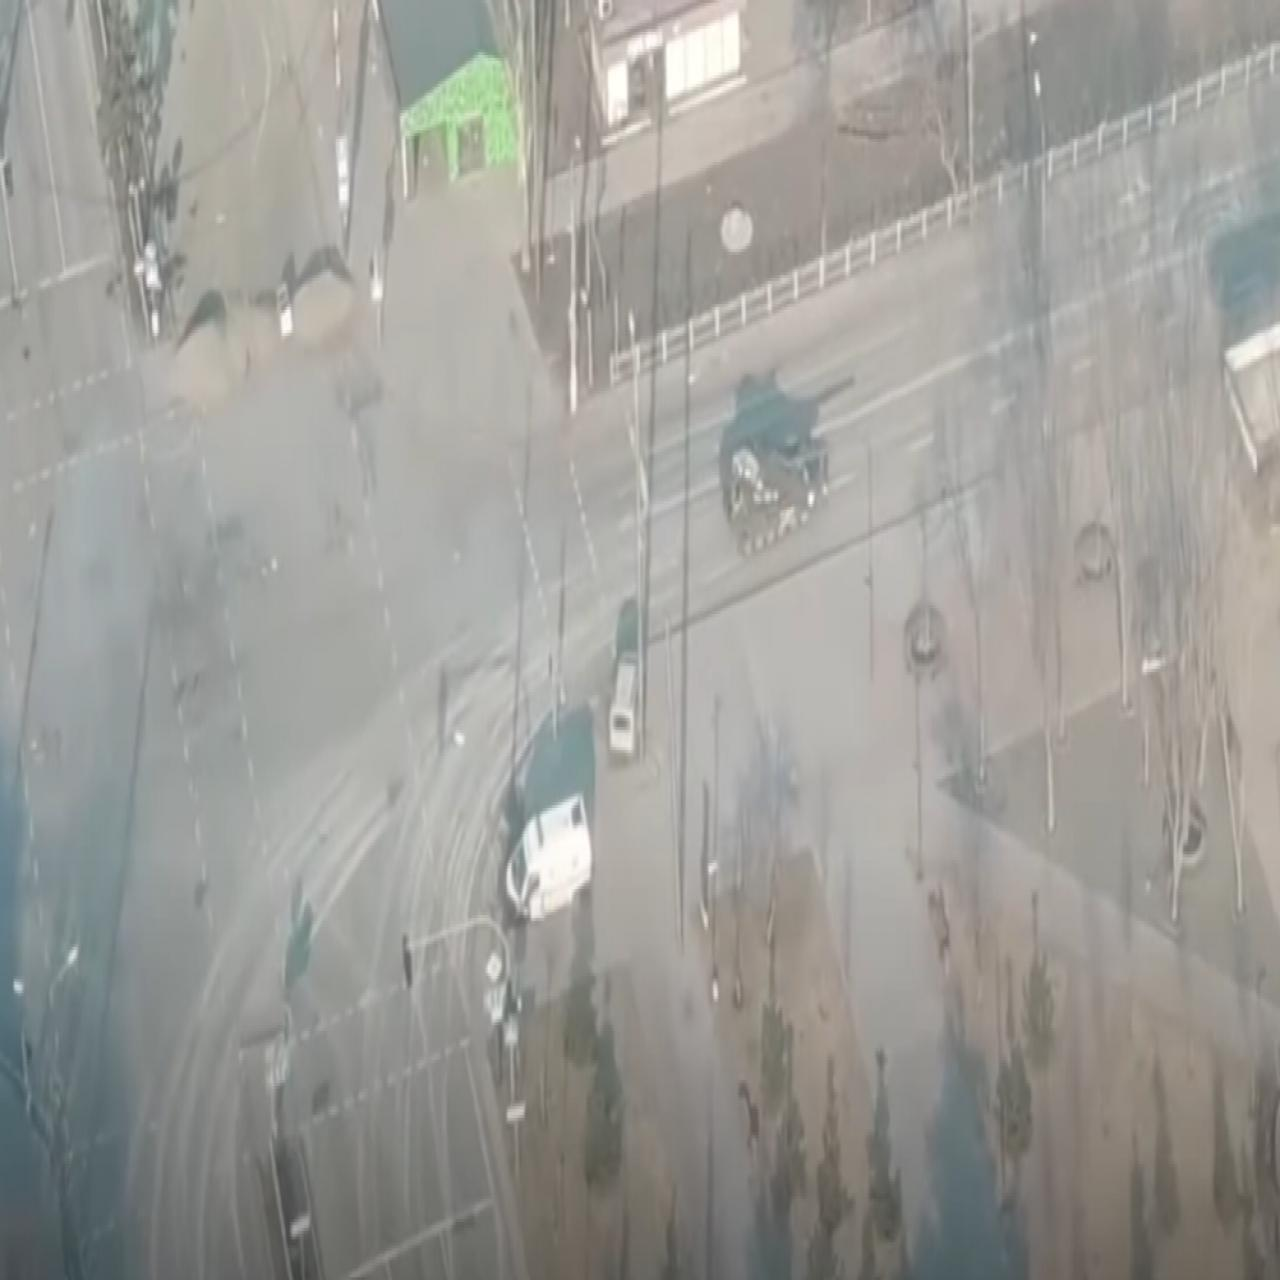MIL_Veh: (716, 434, 828, 554)
